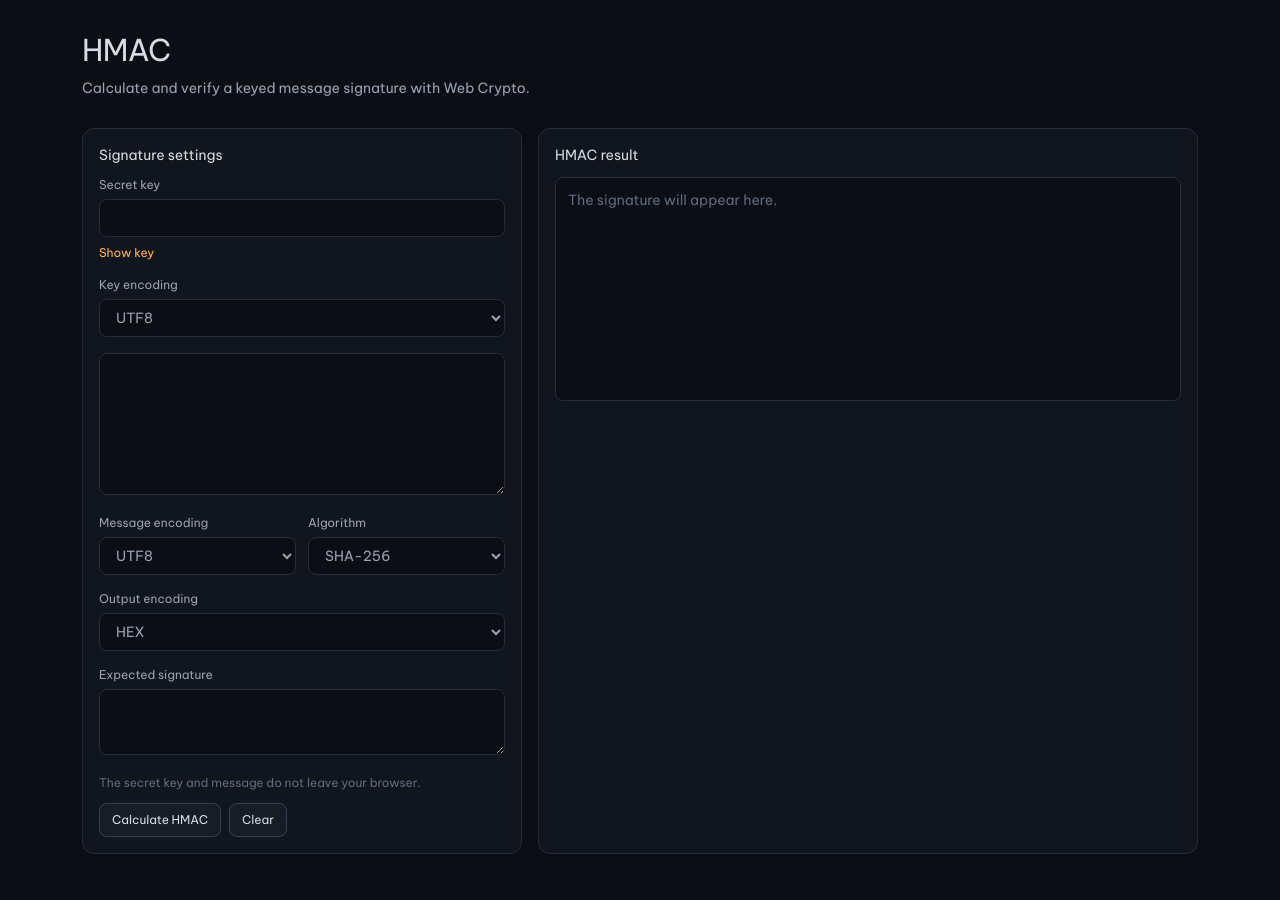
Test: HMAC tool › calculates and verifies a Web Crypto signature
This screenshot has width=1280, height=900.
Type "key" into the password field labelled "Secret key" at (302, 218), box [99,199,505,237]
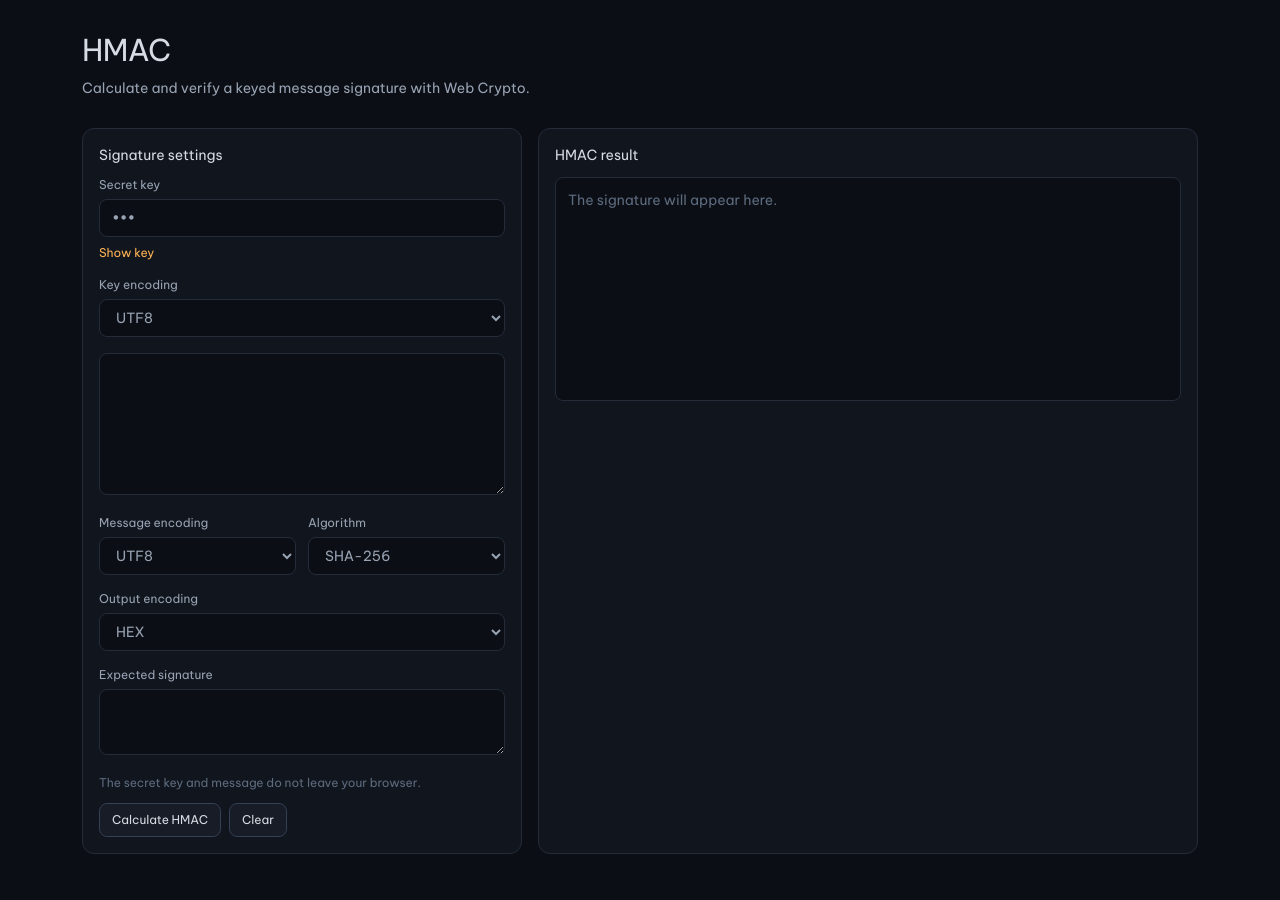
Type "The quick brown fox jumps over the lazy dog" into the text box named "Message" at (302, 424), box [99,353,505,495]
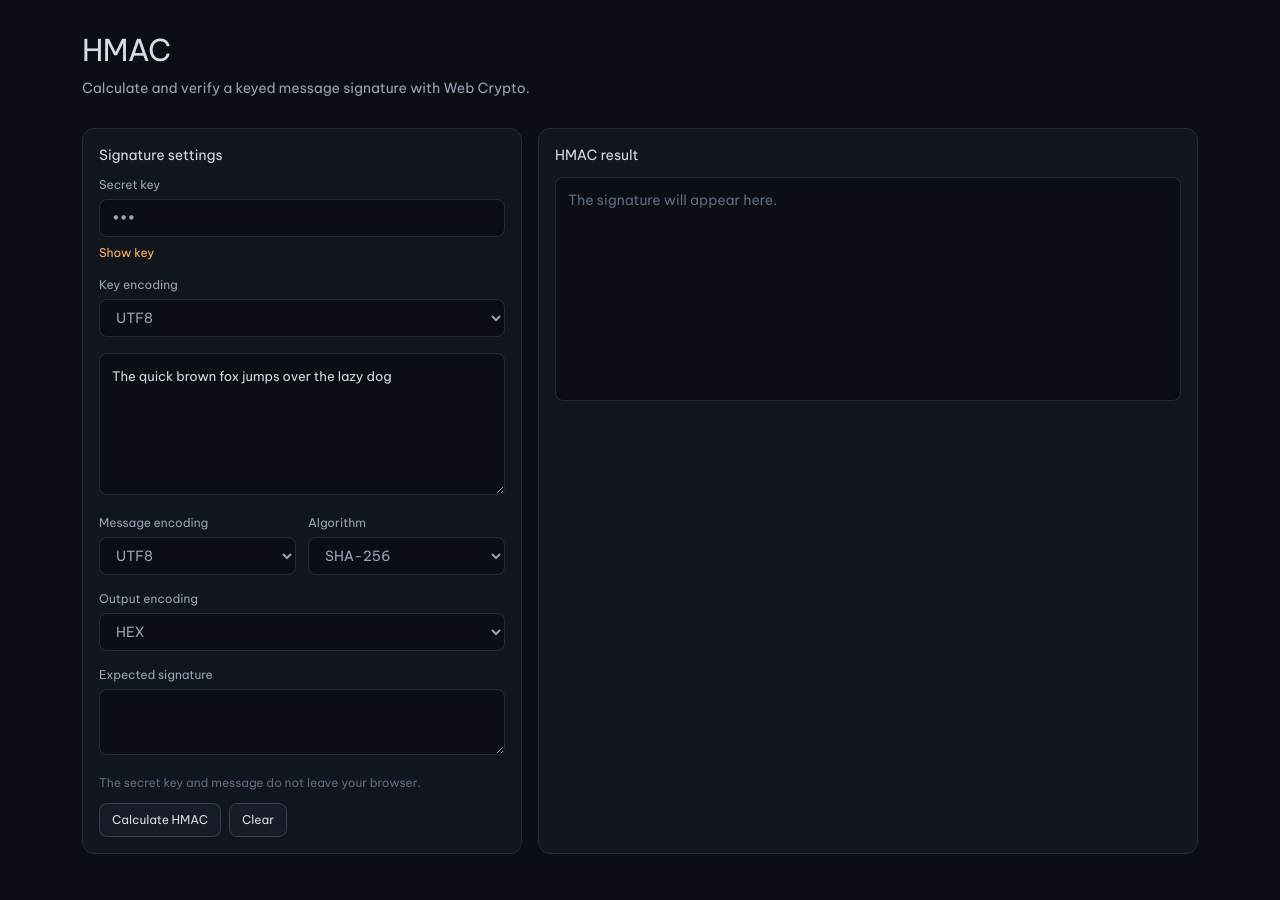
Type "f7bc83f430538424b13298e6aa6fb143ef4d59a14946175997479dbc2d1a3cd8" into the text box labelled "Expected signature" at (302, 722), box [99,689,505,755]
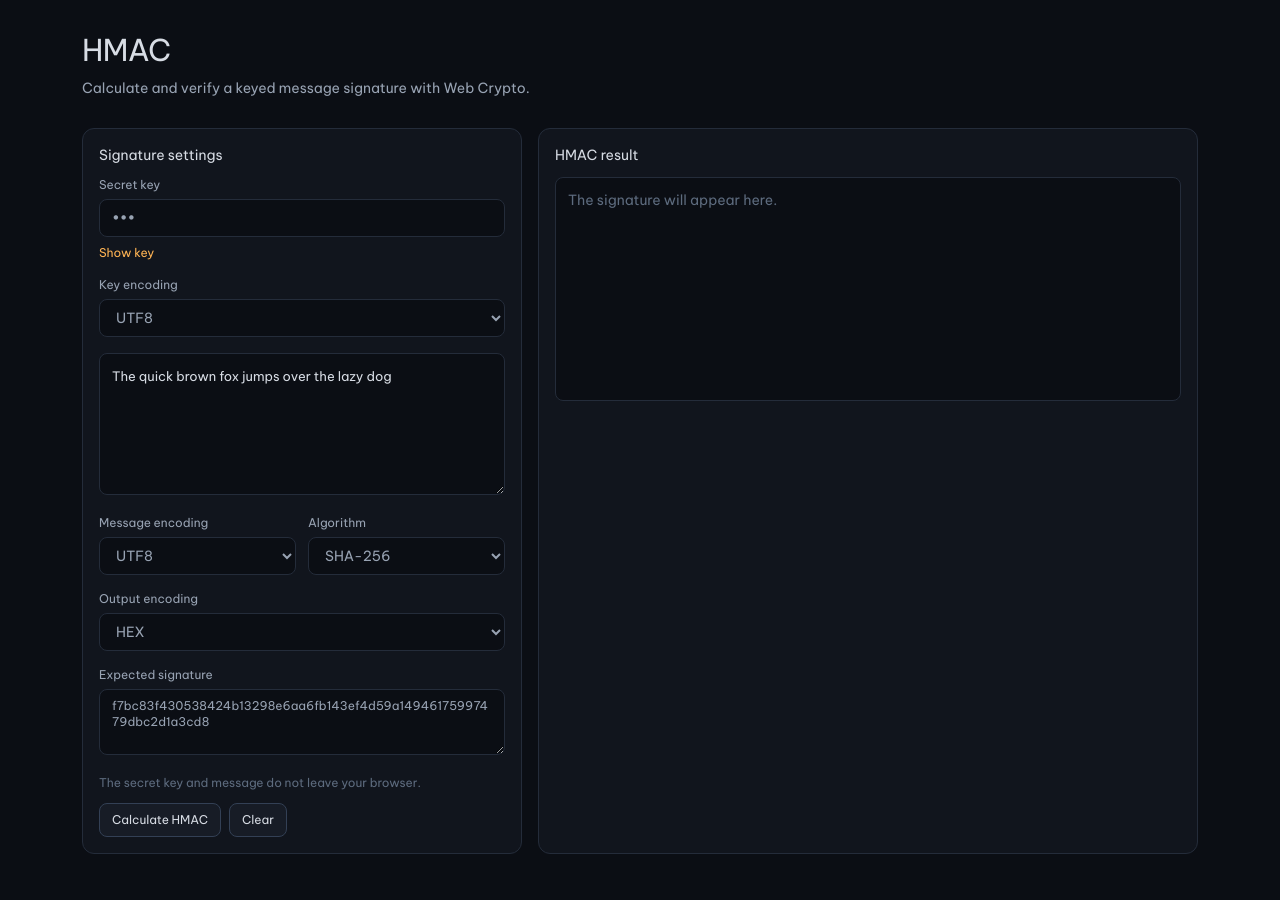
Click the button "Calculate HMAC" at (160, 820), box [99,803,221,837]
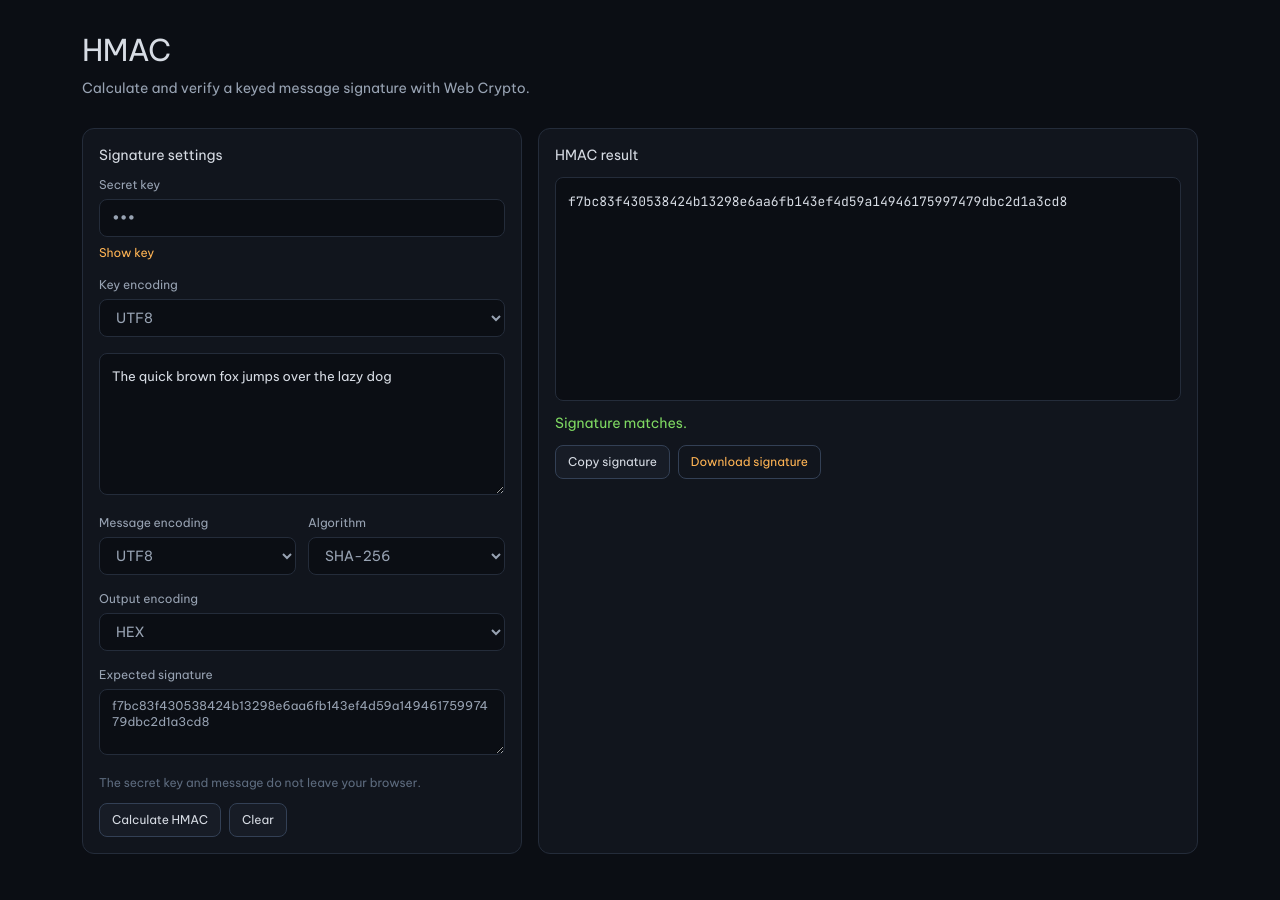
Result: the text "Signature matches." is shown at [555,414,687,432]
Result: the element named "HMAC result" shows "f7bc83f4" at [568,193,1067,210]
